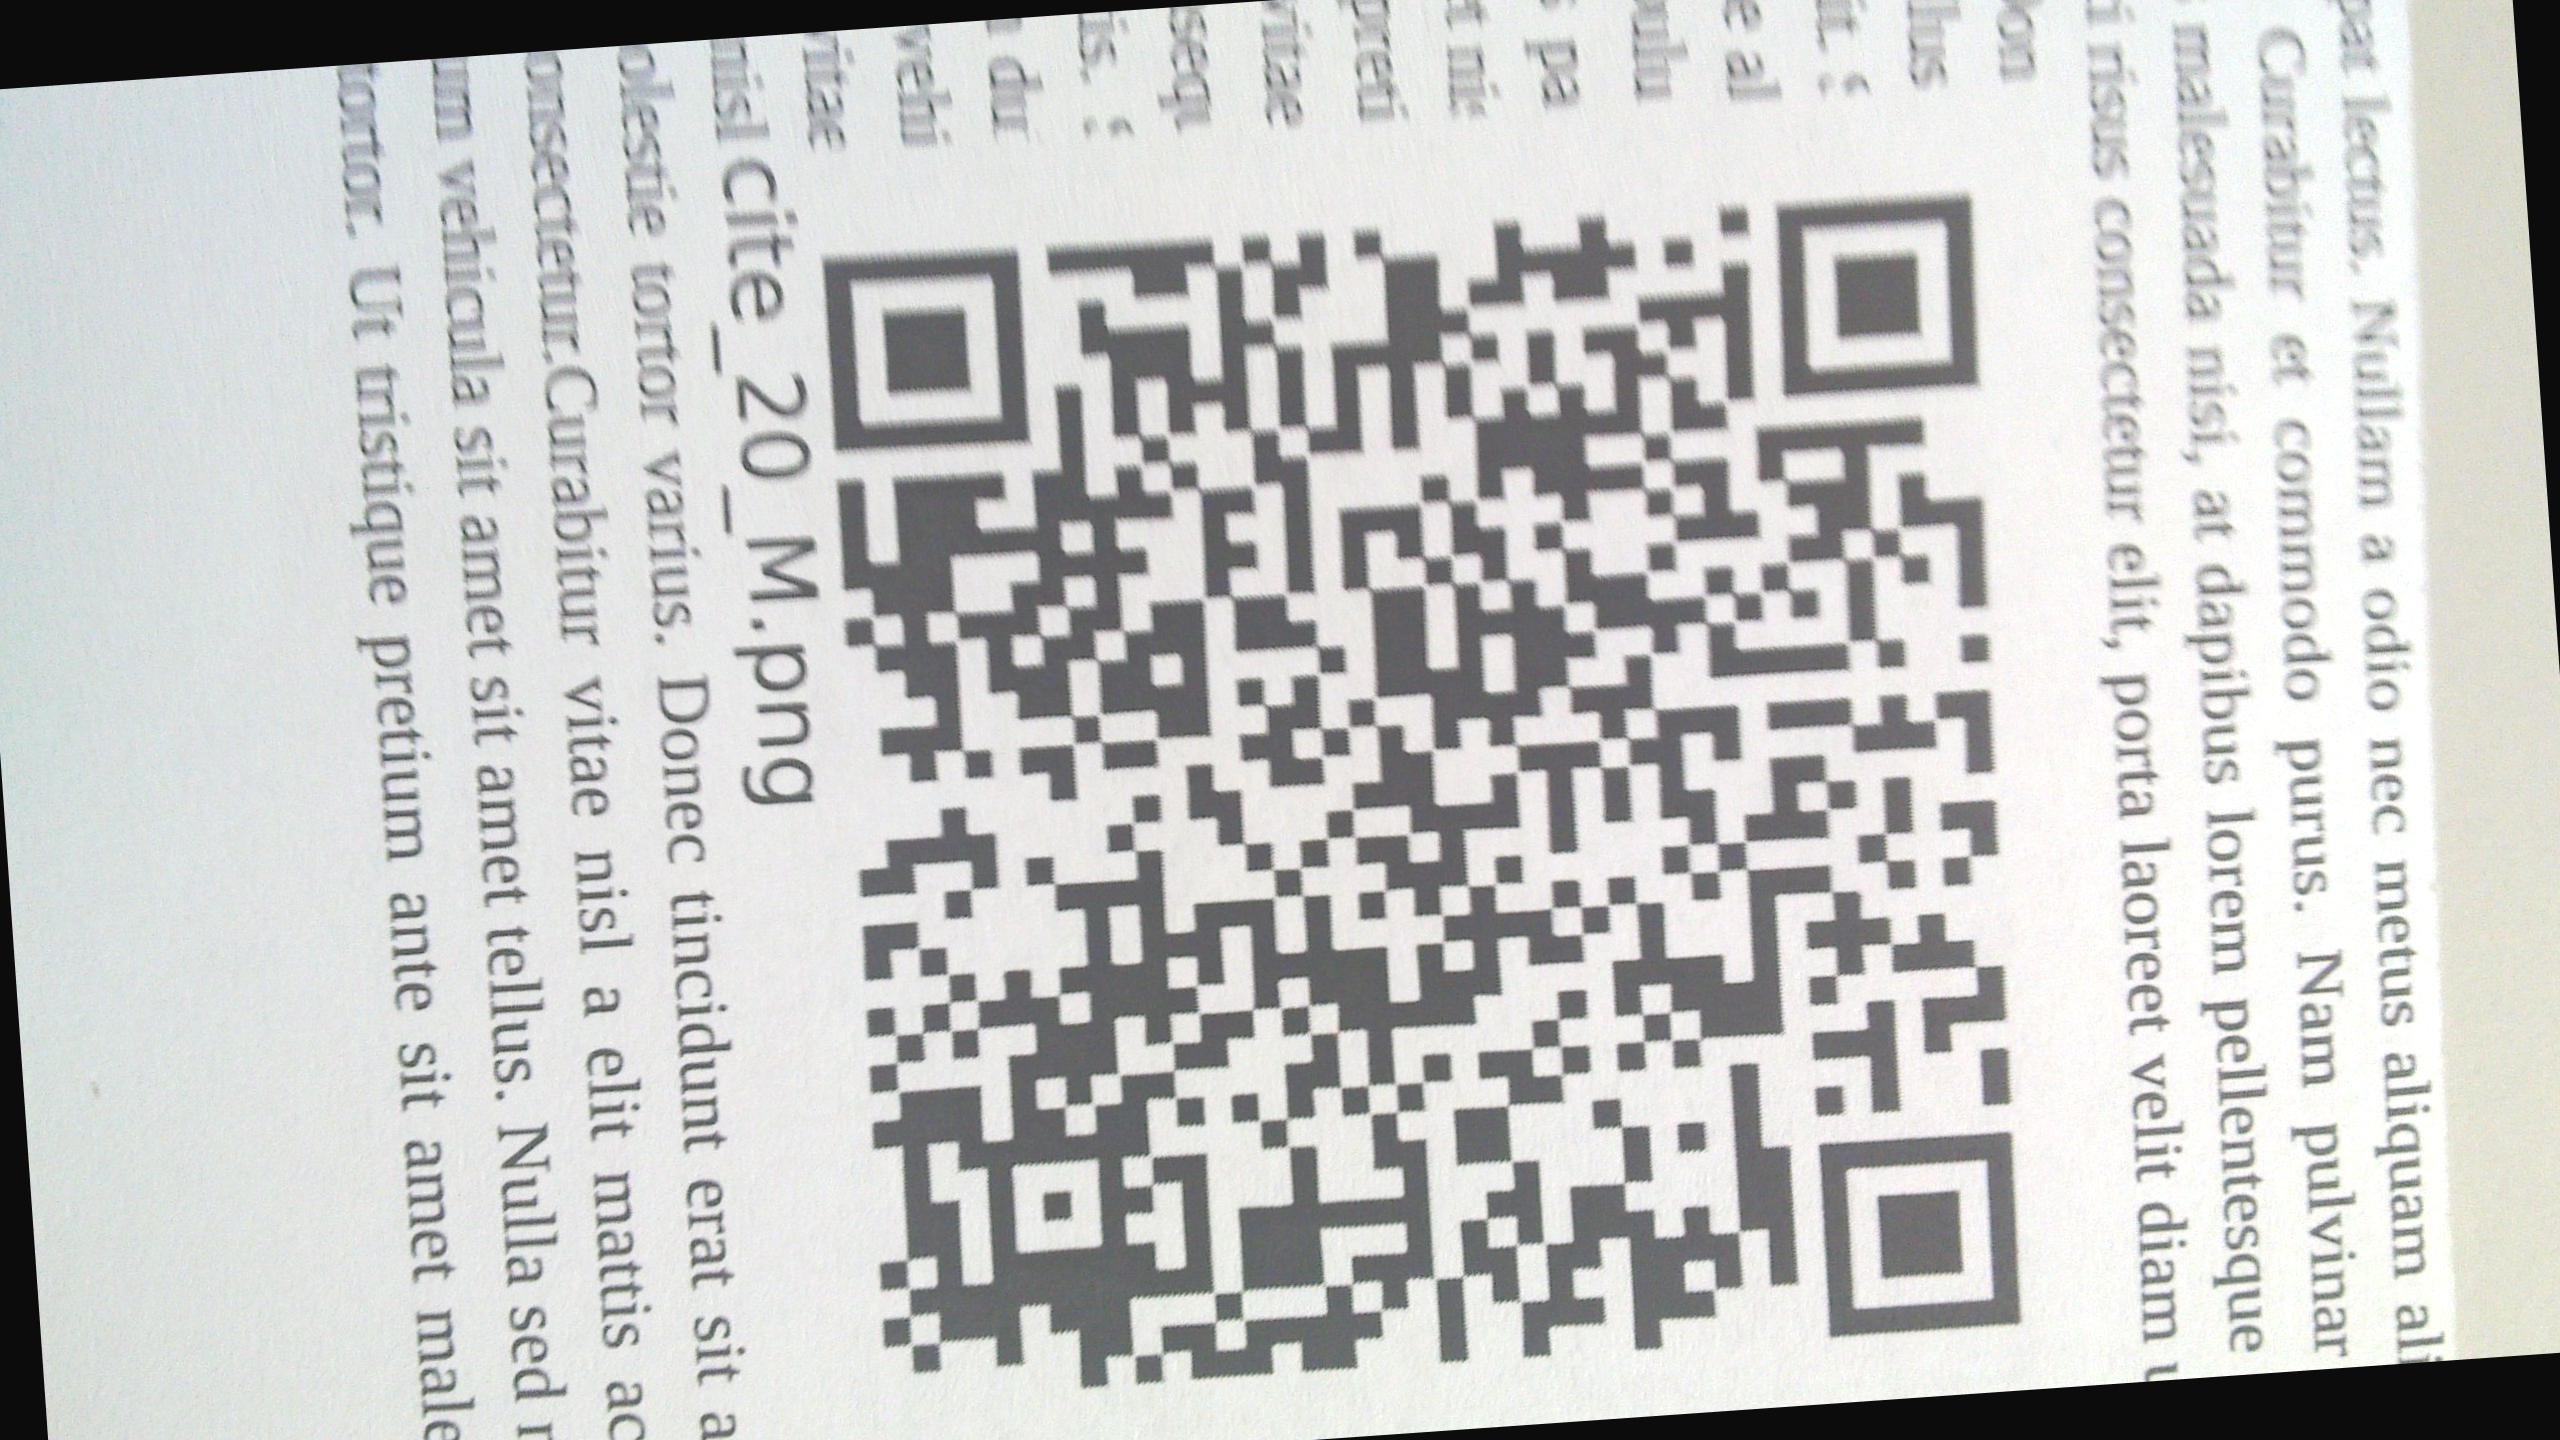QR: (830, 199, 2027, 1375)
